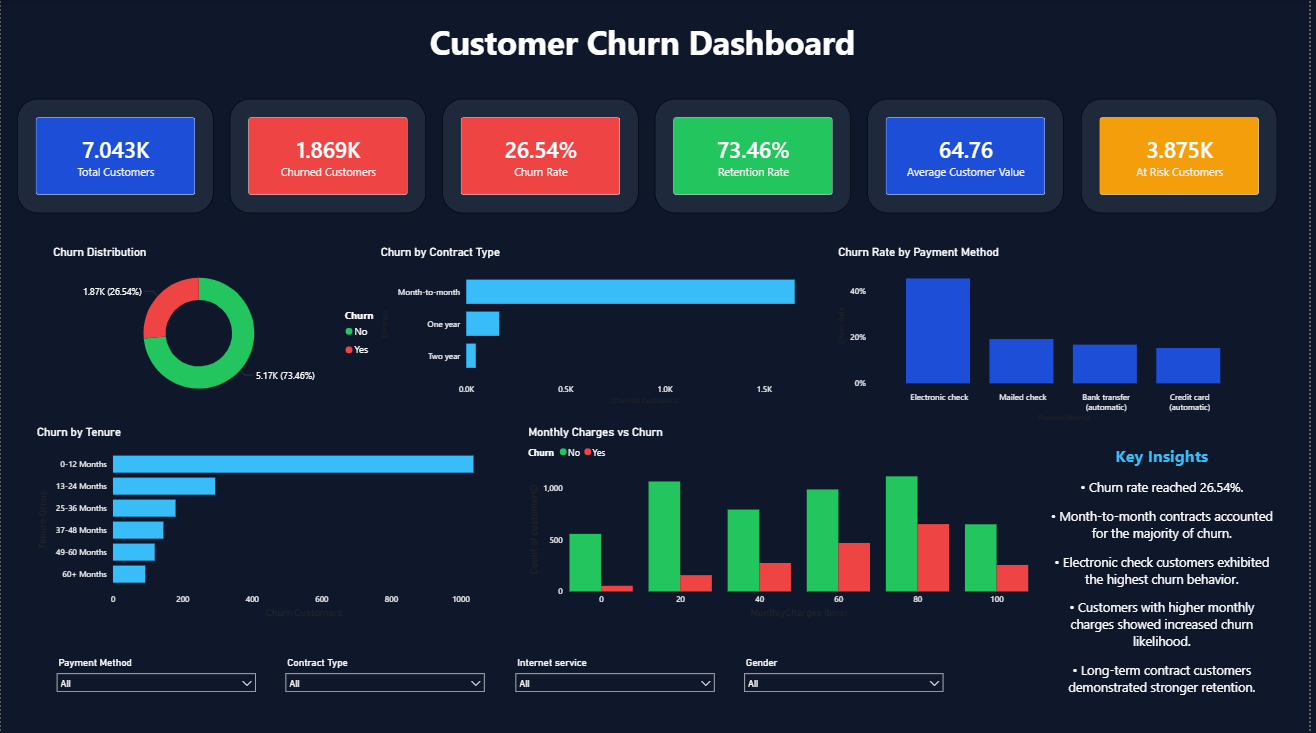

This screenshot's page, from the dashboard's own definition file:
{"tool":"powerbi","page":{"name":"Page 1","canvas":[1920,1080],"ordinal":0},"visuals":[{"type":"textbox","box":[600,24,696,96],"z":0},{"type":"cardVisual","fields":{"Data":["in.Total Customers"]},"box":[24,144,288,168],"z":1000},{"type":"cardVisual","fields":{"Data":["in.Churned Customers"]},"box":[336,144,288,168],"z":2000},{"type":"cardVisual","fields":{"Data":["in.Churn Rate"]},"box":[648,144,288,168],"z":3000},{"type":"cardVisual","fields":{"Data":["in.Retention Rate"]},"box":[960,144,288,168],"z":4000},{"type":"cardVisual","fields":{"Data":["in.Average Monthly Revenue"]},"box":[1272,144,288,168],"z":5000},{"type":"donutChart","title":"Churn Distribution","fields":{"Category":["in.Churn"],"Y":["CountNonNull(in.customerID)"]},"box":[72,360,504,240],"z":6000},{"type":"clusteredBarChart","title":"Churn by Contract Type","fields":{"Category":["in.Contract"],"Y":["in.Churned Customers"]},"box":[552,360,672,240],"z":7000},{"type":"clusteredColumnChart","title":"Monthly Charges vs Churn","fields":{"Category":["in.MonthlyCharges (bins)"],"Series":["in.Churn"],"Y":["CountNonNull(in.customerID)"]},"box":[768,624,744,288],"z":8000},{"type":"clusteredBarChart","title":"Churn by Tenure","fields":{"Y":["in.Churn Customers"],"Category":["in.Tenure Group"]},"box":[48,624,696,288],"z":9000},{"type":"clusteredColumnChart","title":"Churn Rate by Payment Method","fields":{"Category":["in.PaymentMethod"],"Y":["in.Churn Rate"]},"box":[1224,360,624,264],"z":10000},{"type":"slicer","fields":{"Values":["in.PaymentMethod"]},"box":[72,960,312,72],"z":11000},{"type":"slicer","fields":{"Values":["in.Contract"]},"box":[408,960,312,72],"z":12000},{"type":"slicer","fields":{"Values":["in.PaymentMethod","in.InternetService"]},"box":[744,960,312,72],"z":13000},{"type":"slicer","fields":{"Values":["in.gender"]},"box":[1080,960,312,72],"z":14000},{"type":"textbox","box":[1536,648,336,432],"z":15000},{"type":"cardVisual","fields":{"Data":["in.At Risk Customers"]},"box":[1584,144,288,168],"z":16000}]}

Visuals, with their boxes in screenshot pixels (x1, y1, x2, y2), scaled from the page's 1920x1080 canvas onto the 1316x733 screenshot:
textbox: (411, 16, 888, 81)
cardVisual - in.Total Customers: (16, 98, 214, 212)
cardVisual - in.Churned Customers: (230, 98, 428, 212)
cardVisual - in.Churn Rate: (444, 98, 642, 212)
cardVisual - in.Retention Rate: (658, 98, 855, 212)
cardVisual - in.Average Monthly Revenue: (872, 98, 1069, 212)
"Churn Distribution" donutChart: (49, 244, 395, 407)
"Churn by Contract Type" clusteredBarChart: (378, 244, 839, 407)
"Monthly Charges vs Churn" clusteredColumnChart: (526, 424, 1036, 619)
"Churn by Tenure" clusteredBarChart: (33, 424, 510, 619)
"Churn Rate by Payment Method" clusteredColumnChart: (839, 244, 1267, 424)
slicer - in.PaymentMethod: (49, 652, 263, 700)
slicer - in.Contract: (280, 652, 494, 700)
slicer - in.PaymentMethod x in.InternetService: (510, 652, 724, 700)
slicer - in.gender: (740, 652, 954, 700)
textbox: (1053, 440, 1283, 732)
cardVisual - in.At Risk Customers: (1086, 98, 1283, 212)
